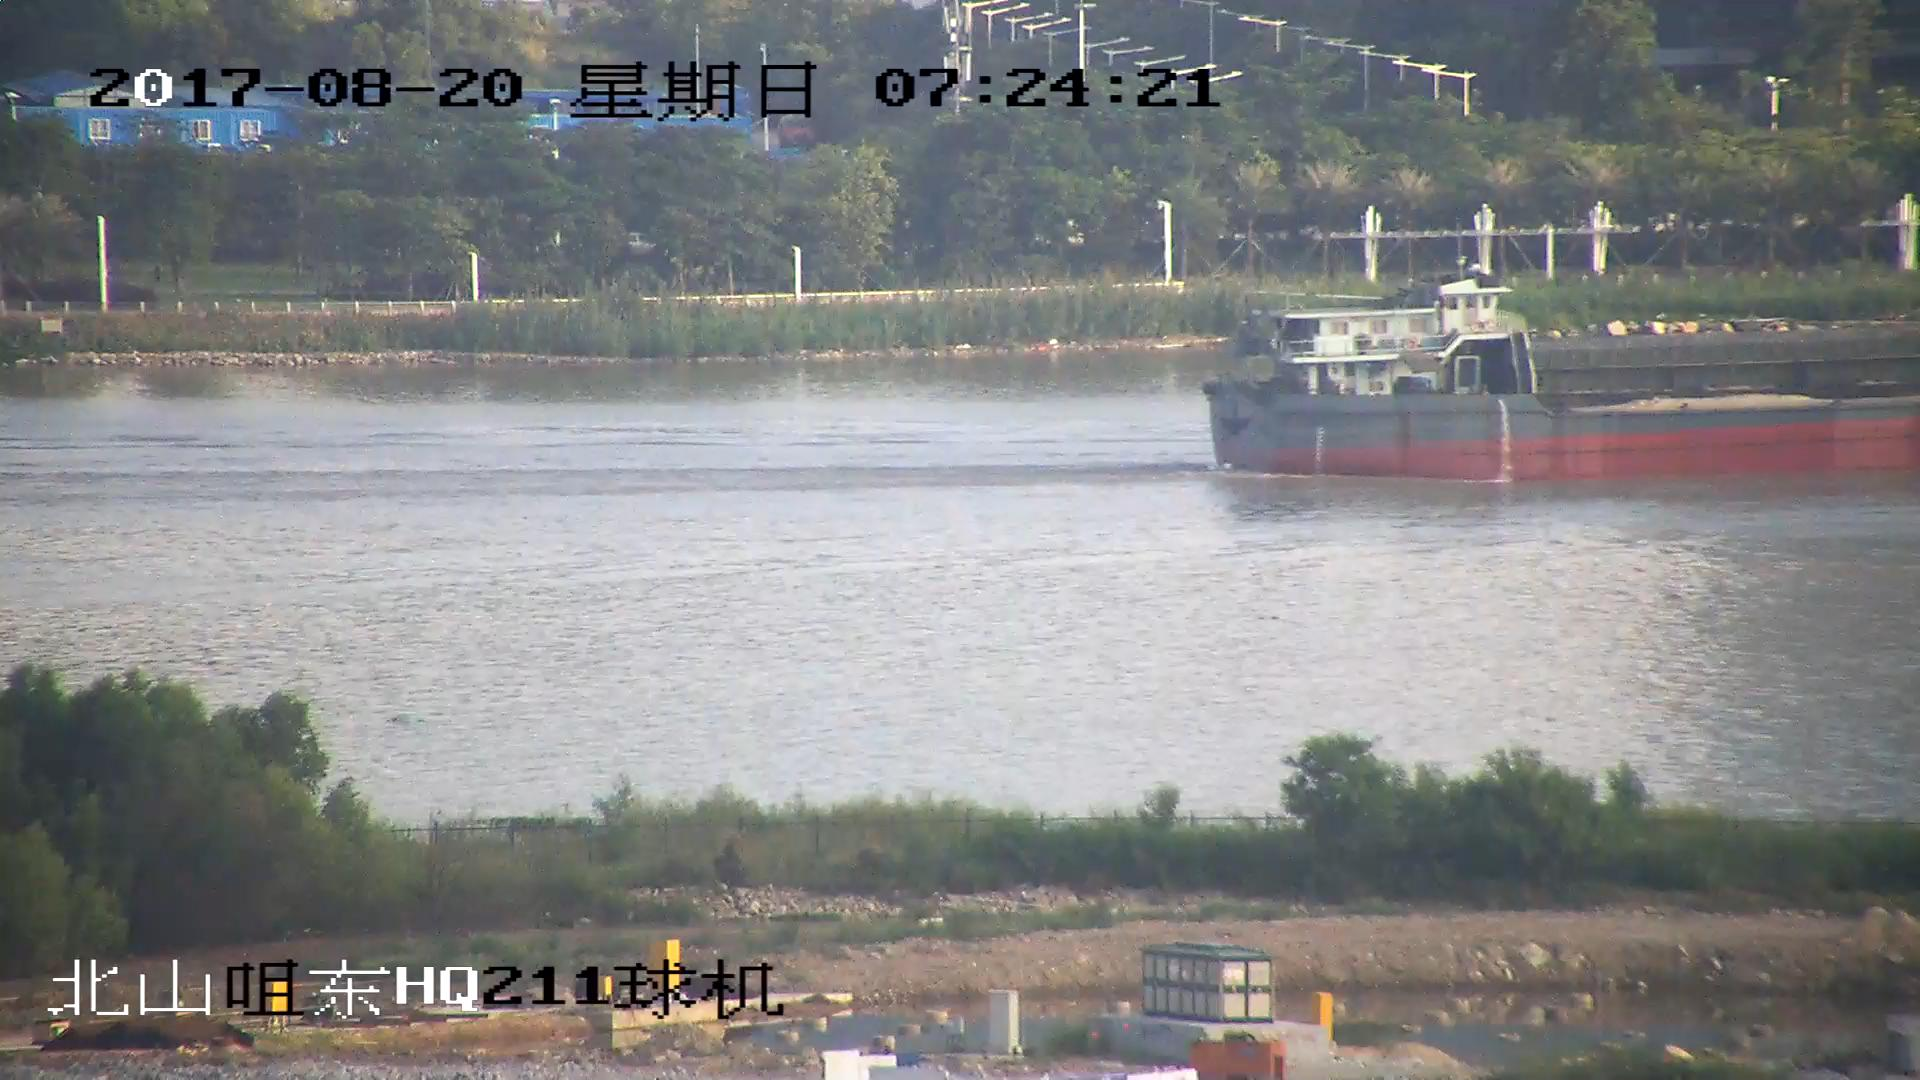bulk cargo carrier: (1206, 280, 1920, 474)
